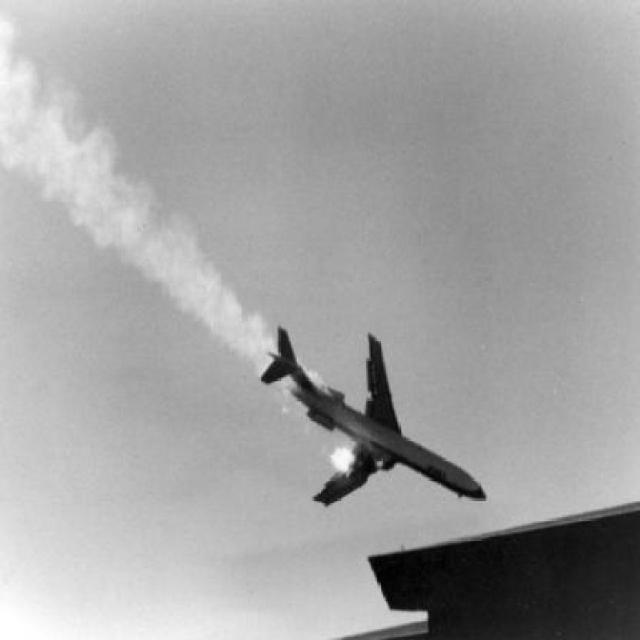aeroplane: (252, 318, 497, 534)
